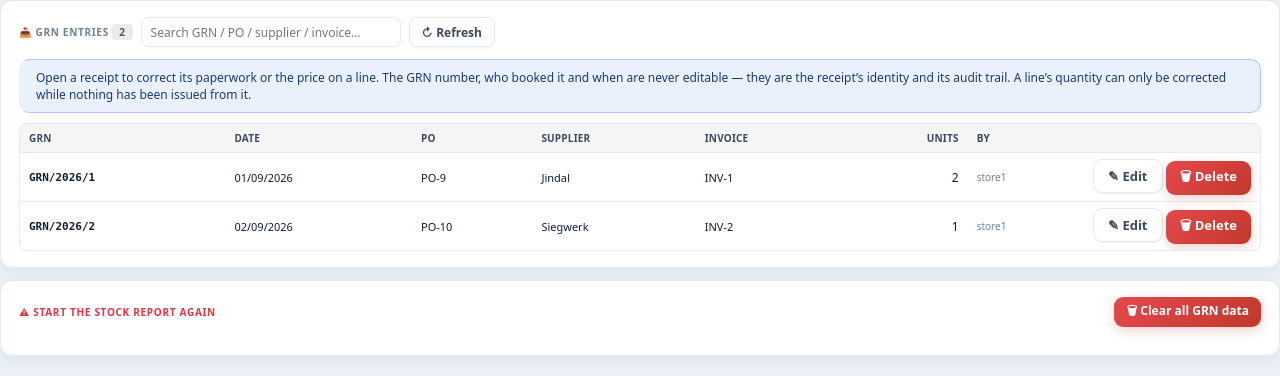
it: Issues 2.7 §3 — Super Admin edits a booked GRN › lists receipts and searches them
The width and height of the screenshot is (1280, 376).
Expected: the text "GRN/2026/1" is shown, [20,152,225,202]
Expected: the text "GRN/2026/2" is shown, [20,202,225,250]
Step 1. Type "siegwerk" into the field named "Search receipts" → point(271, 32), box [141,17,401,47]
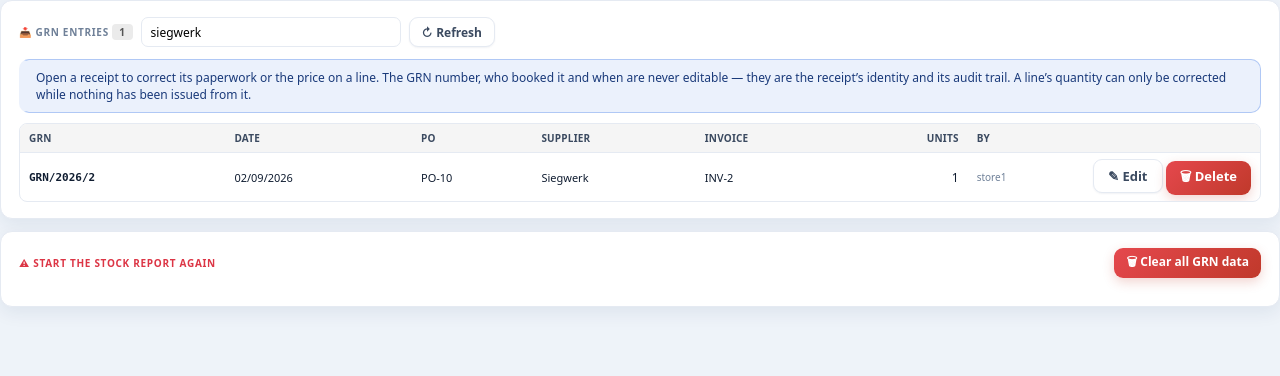
Expected: the text "GRN/2026/2" is shown, [20,152,225,201]
Expected: the text "GRN/2026/1" is gone
